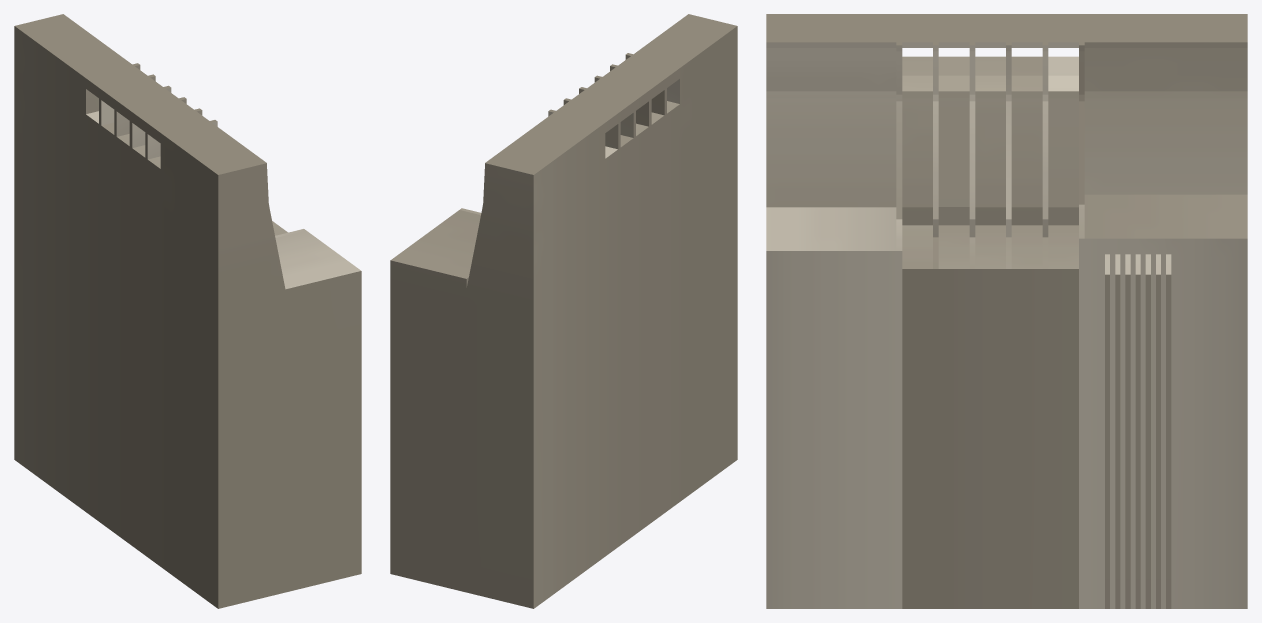
The model's file is Dam.fbx.
3 views of the same model, side by side, from view 1: azimuth 30°, elevation 25°; view 2: azimuth 150°, elevation 25°; view 3: azimuth 270°, elevation 25° (orthographic). The views are drawn at different scales.
Parts seen in each view (by area): view 1: Dam; view 2: Dam; view 3: Dam.
Boxes of the visible parts, bbox=[...] form: Dam: bbox=[14, 14, 361, 608]; Dam: bbox=[390, 14, 737, 608]; Dam: bbox=[766, 14, 1247, 608].
Bounding box in the file's own units: 1785 × 5164 × 4395.
